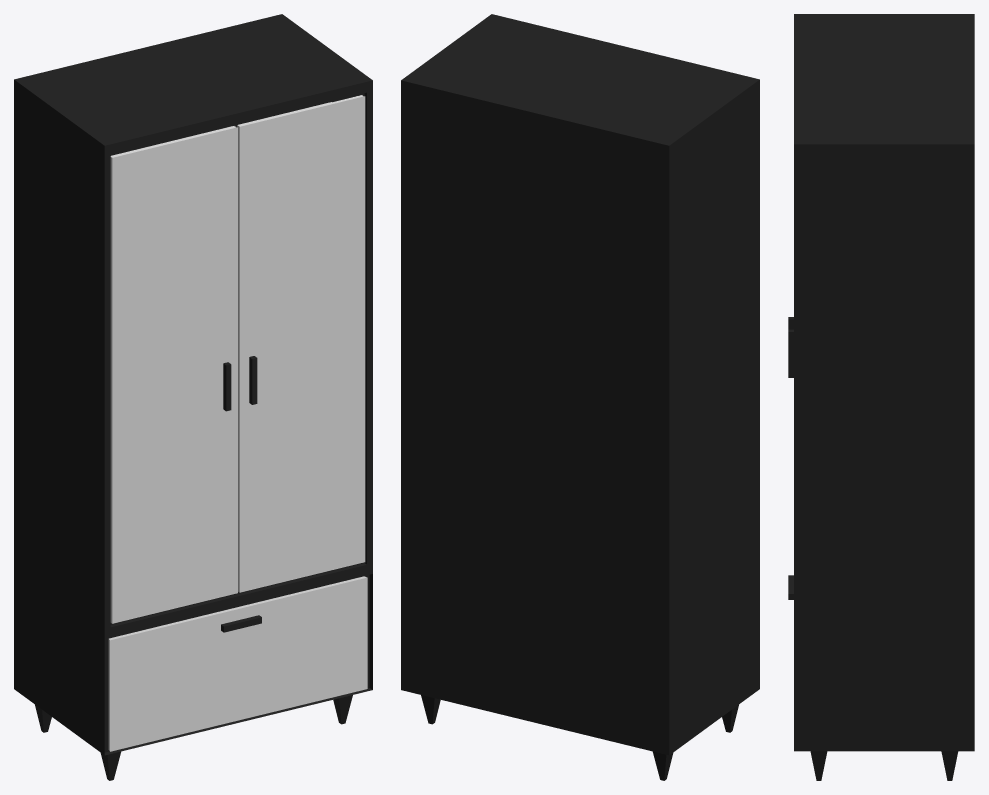
Rendered from ArmarioMaderaNegrayBlanca.fbx.
3 views of the same model, side by side, from view 1: azimuth 30°, elevation 25°; view 2: azimuth 150°, elevation 25°; view 3: azimuth 270°, elevation 25° (orthographic).
Visible parts, largest first — view 1: armario; view 2: armario; view 3: armario.
Part boxes in pixels (x1,y1,x2,y2): armario: (14,14,372,780); armario: (401,14,759,780); armario: (788,14,974,780).
Bounding box in the file's own units: 104 × 239 × 62.74.
